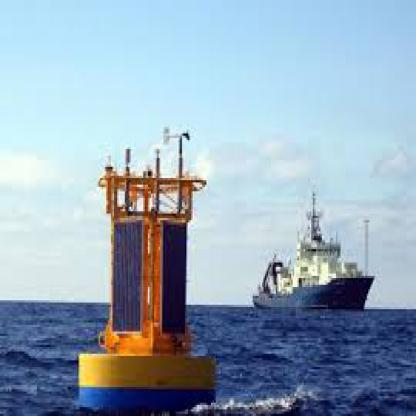buoy: (65, 116, 225, 412)
